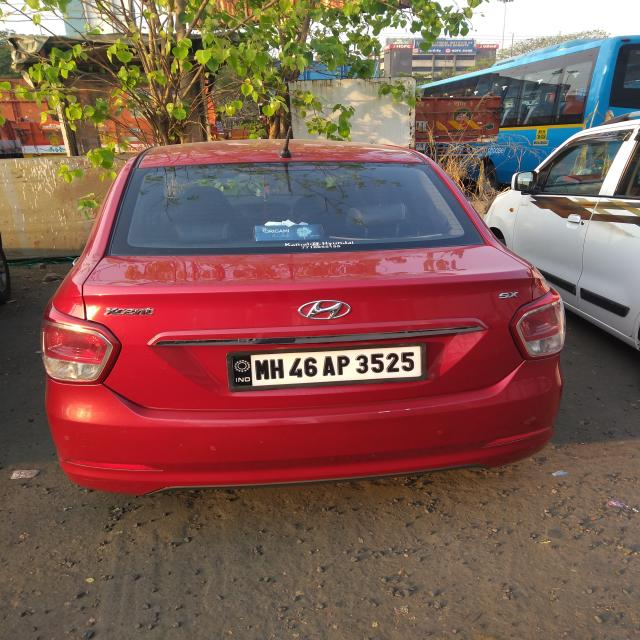Number-Plate: (231, 350, 426, 389)
